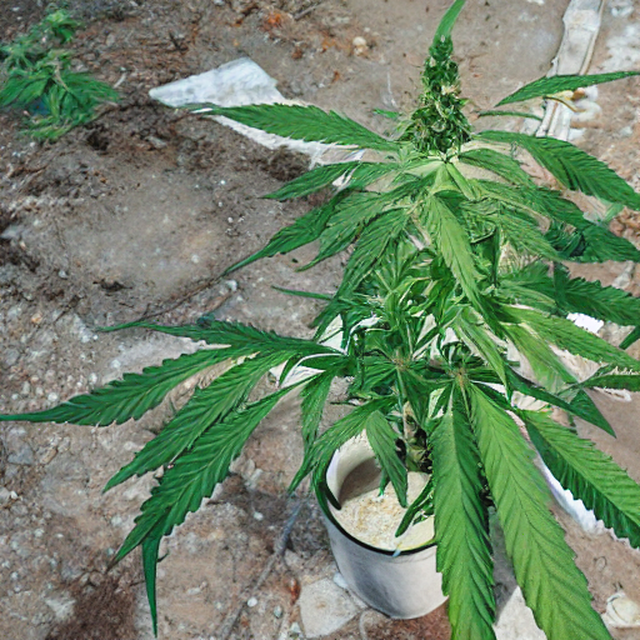Marijuana Plant: (215, 6, 640, 527)
